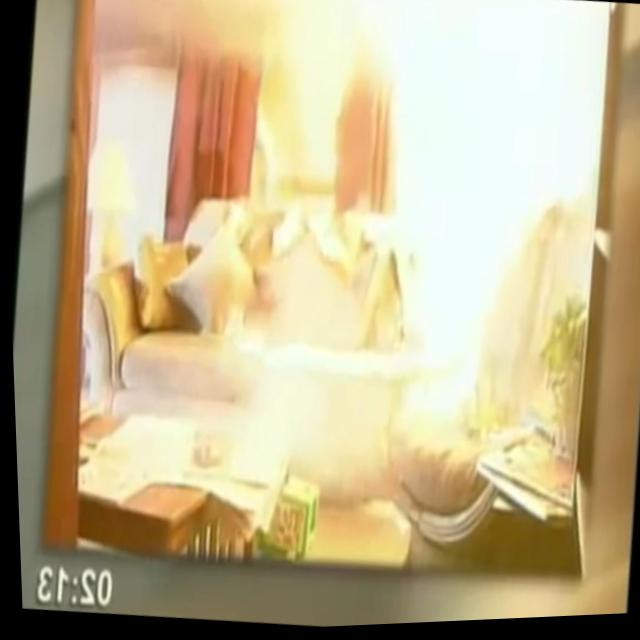fire: (375, 46, 552, 425)
